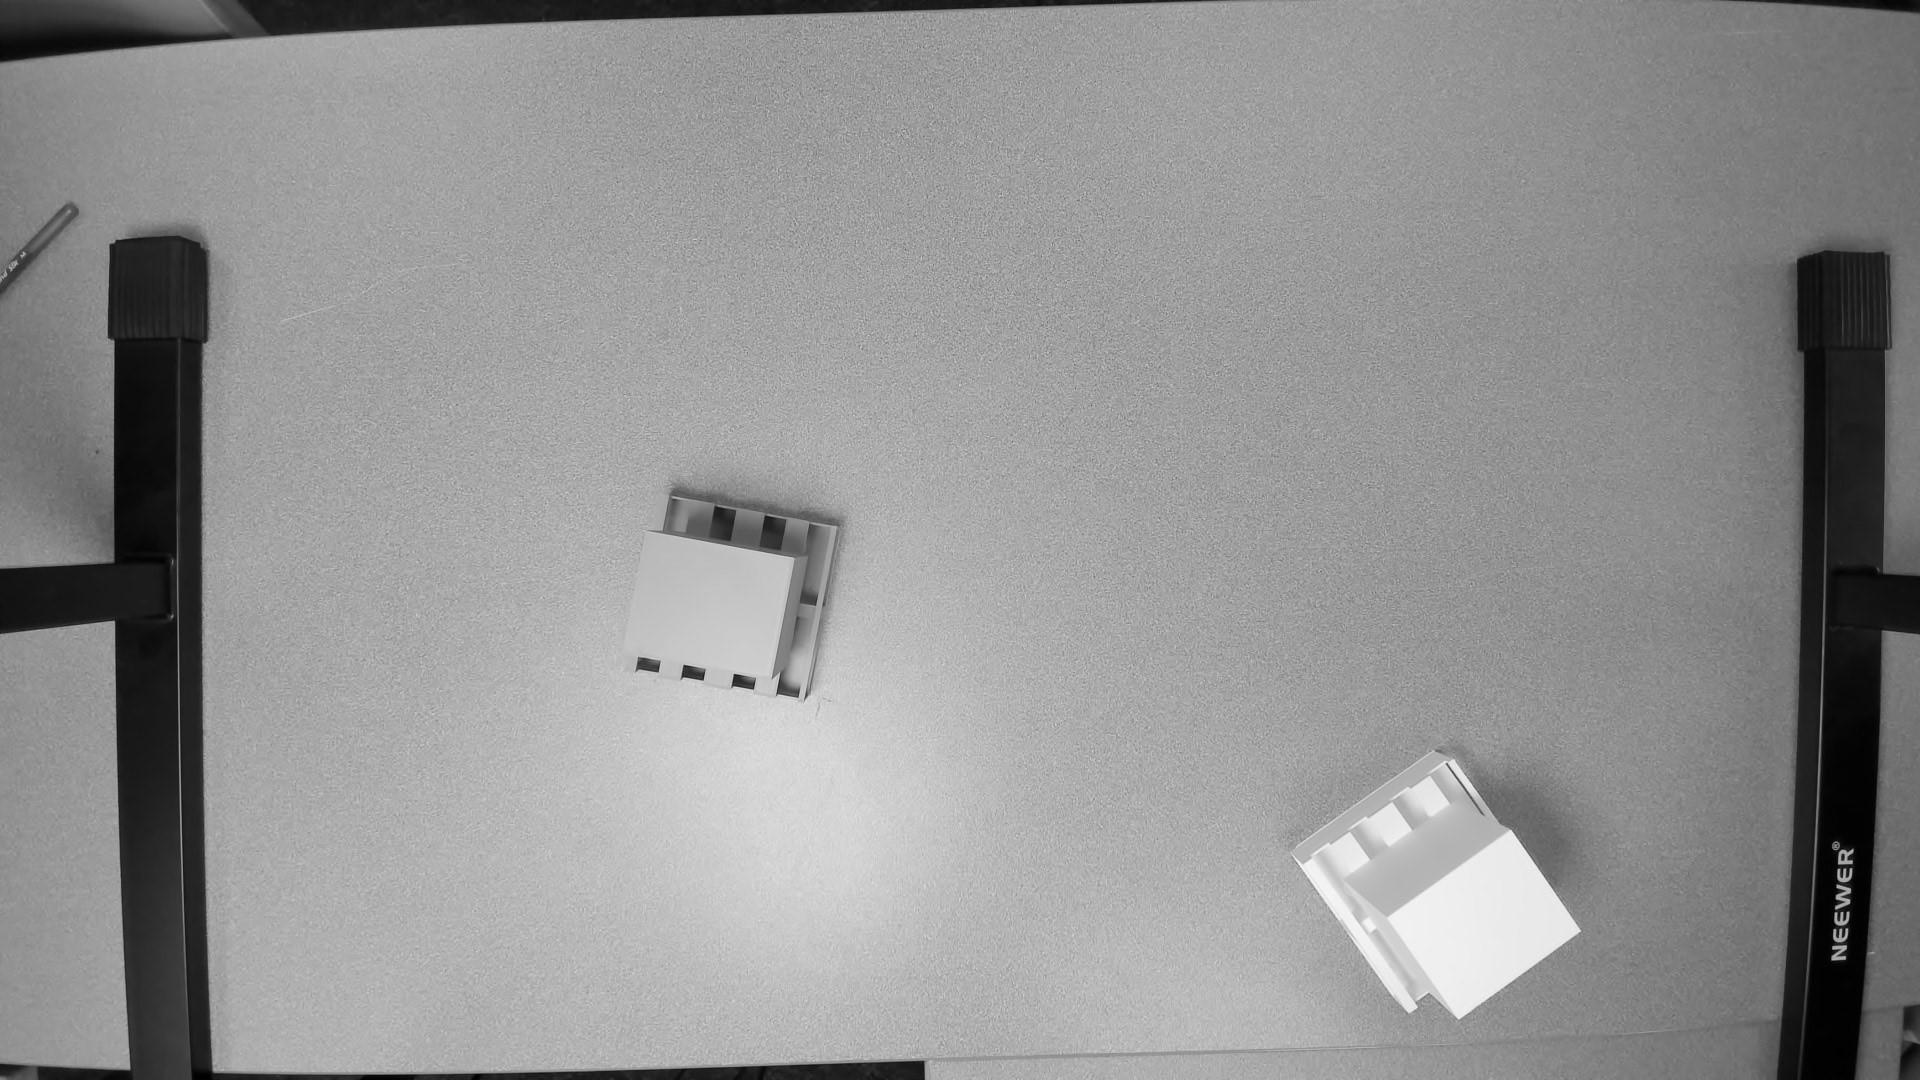grey pallet: (618, 477, 847, 736)
white pallet: (1284, 738, 1589, 1033)
